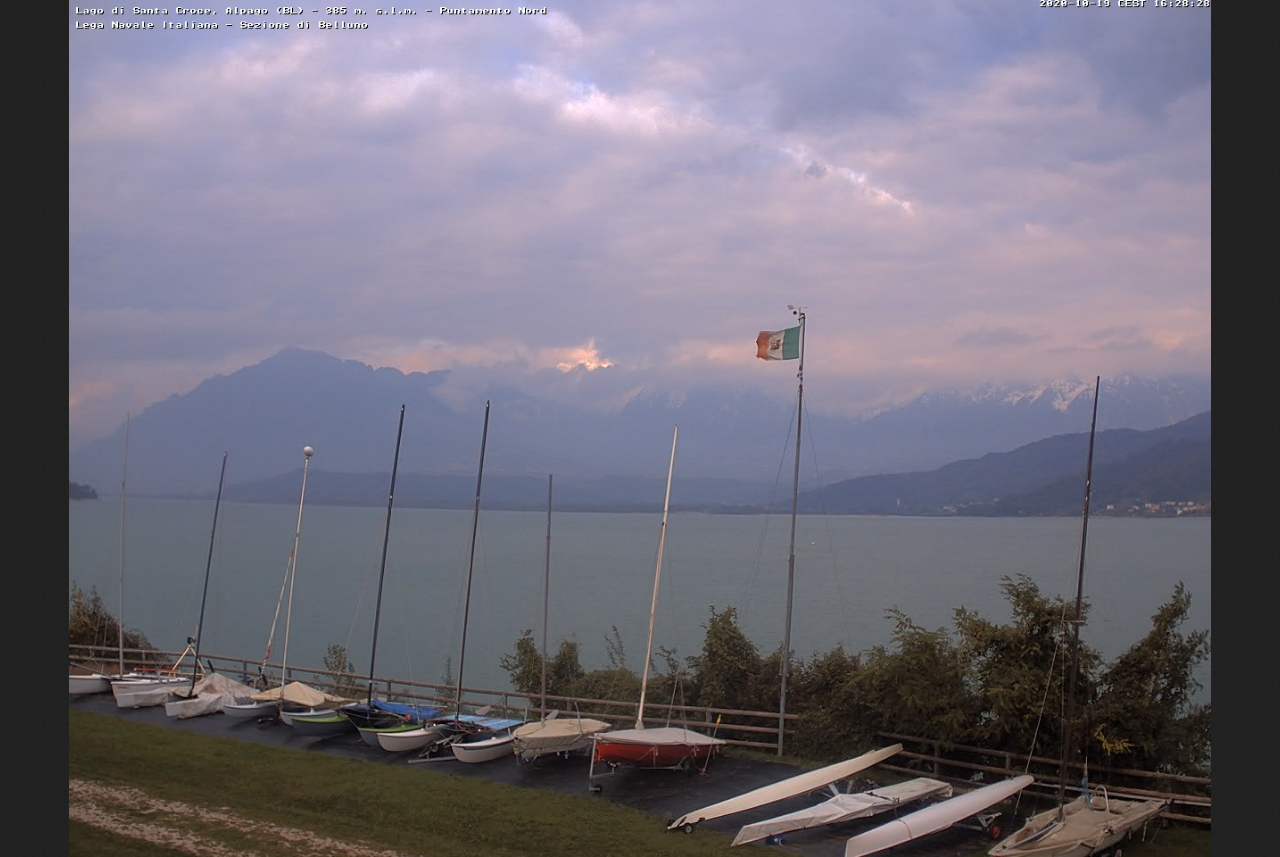yes: (748, 319, 810, 367)
